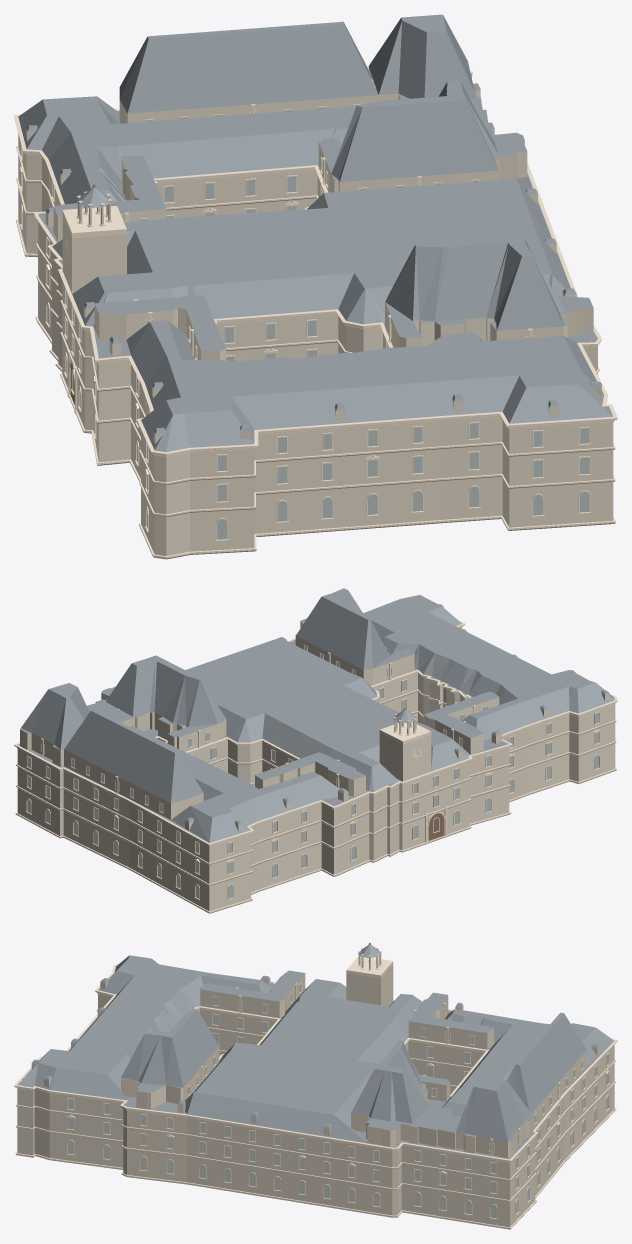
Rendered from detail.glb.
The picture shows the model from 3 angles, top to bottom: view 1: azimuth 30°, elevation 25°; view 2: azimuth 150°, elevation 25°; view 3: azimuth 270°, elevation 25°; orthographic projection. The views are drawn at different scales.
Visible parts, largest first — view 1: roof, stone, trim, window; view 2: roof, stone, trim, window; view 3: roof, stone, trim, window.
Boxes of the visible parts, x1=… form: roof: x1=18, y1=14, x2=613, y2=452; stone: x1=18, y1=67, x2=613, y2=555; trim: x1=14, y1=71, x2=617, y2=559; window: x1=21, y1=105, x2=589, y2=539; roof: x1=18, y1=588, x2=614, y2=842; stone: x1=17, y1=607, x2=615, y2=911; trim: x1=14, y1=619, x2=617, y2=913; window: x1=27, y1=646, x2=599, y2=898; roof: x1=17, y1=945, x2=614, y2=1159; stone: x1=17, y1=948, x2=614, y2=1227; trim: x1=14, y1=956, x2=617, y2=1229; window: x1=68, y1=984, x2=608, y2=1218.
Size of the model in its own units: 128 by 40 by 165.
